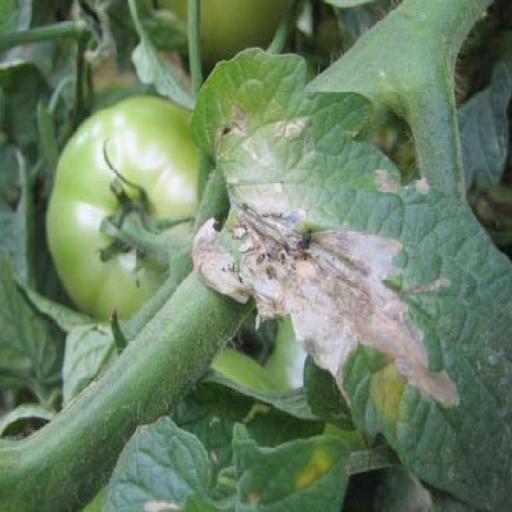disease_tomato: (189, 44, 512, 510)
